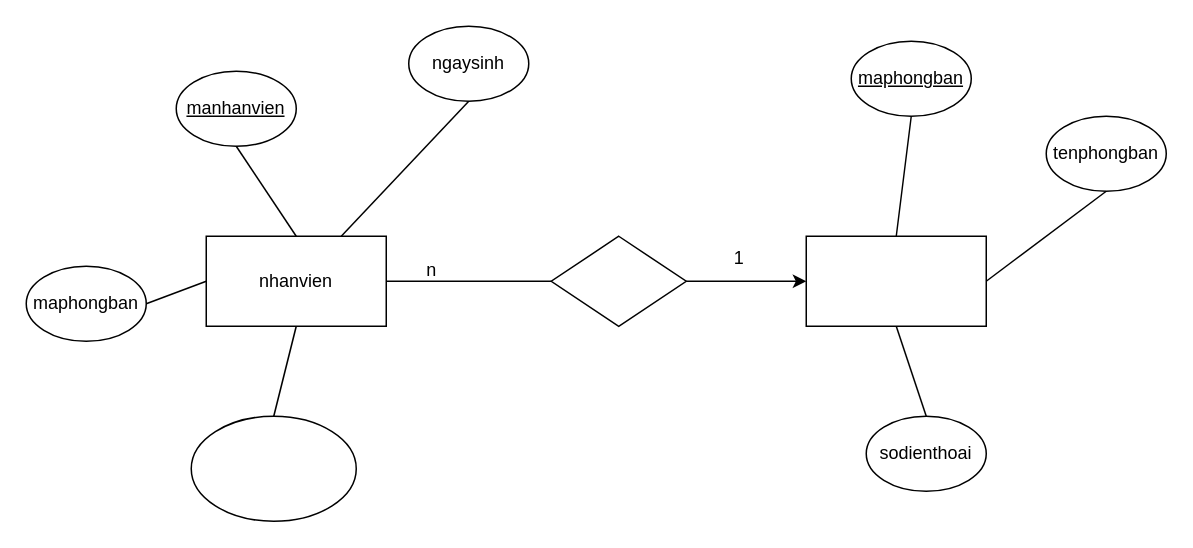
Image size: 1193x548. Some labels were removed from this diagram. The centre of each missing label's shape, as x and y in pixels:
có: point 618,280
hoten: point 273,468
phongban: point 895,280
